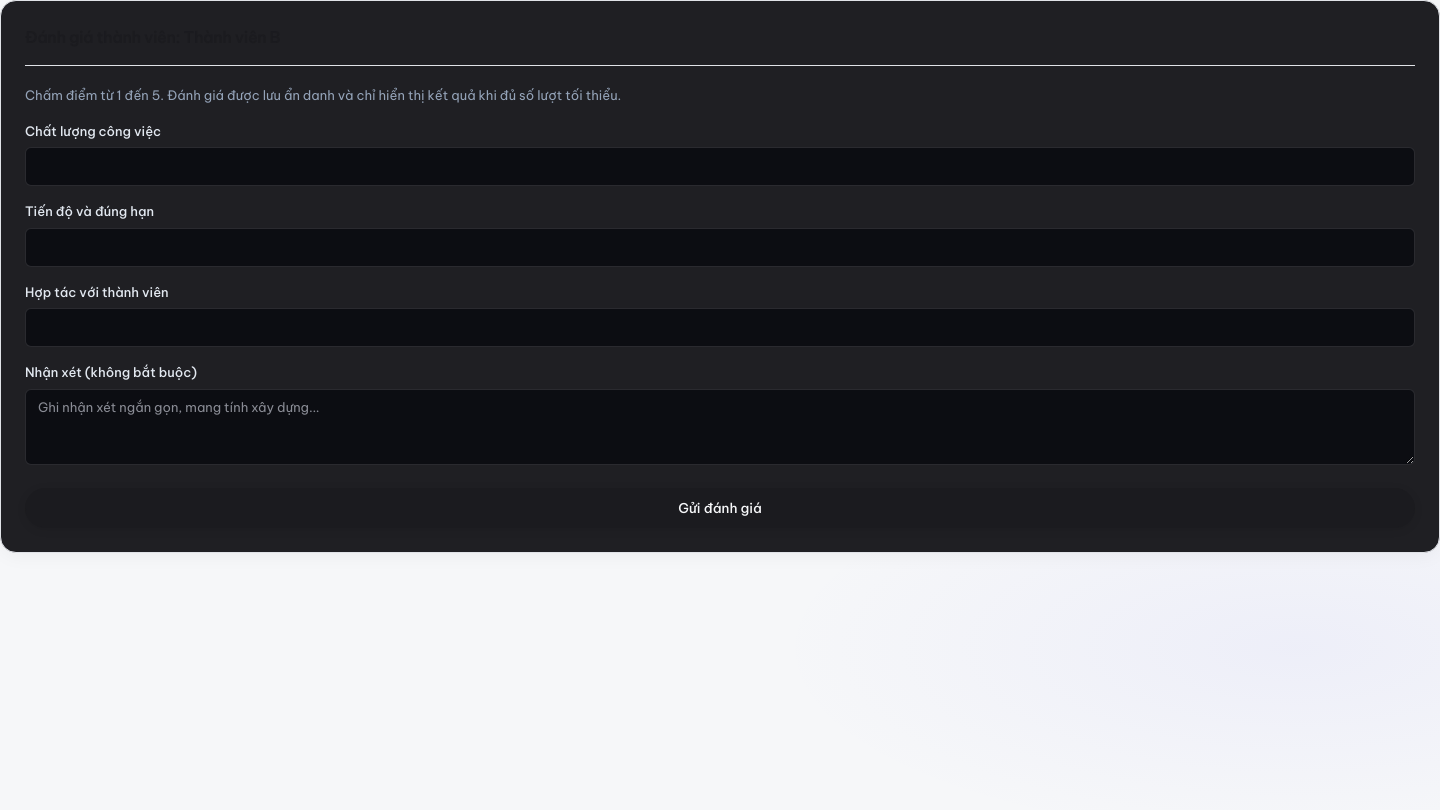
Test: ReviewForm › sends scores matching the backend criteria and reports success
In the number field labelled "Chất lượng công việc": (720, 166) [25,147,1415,186], type "5"
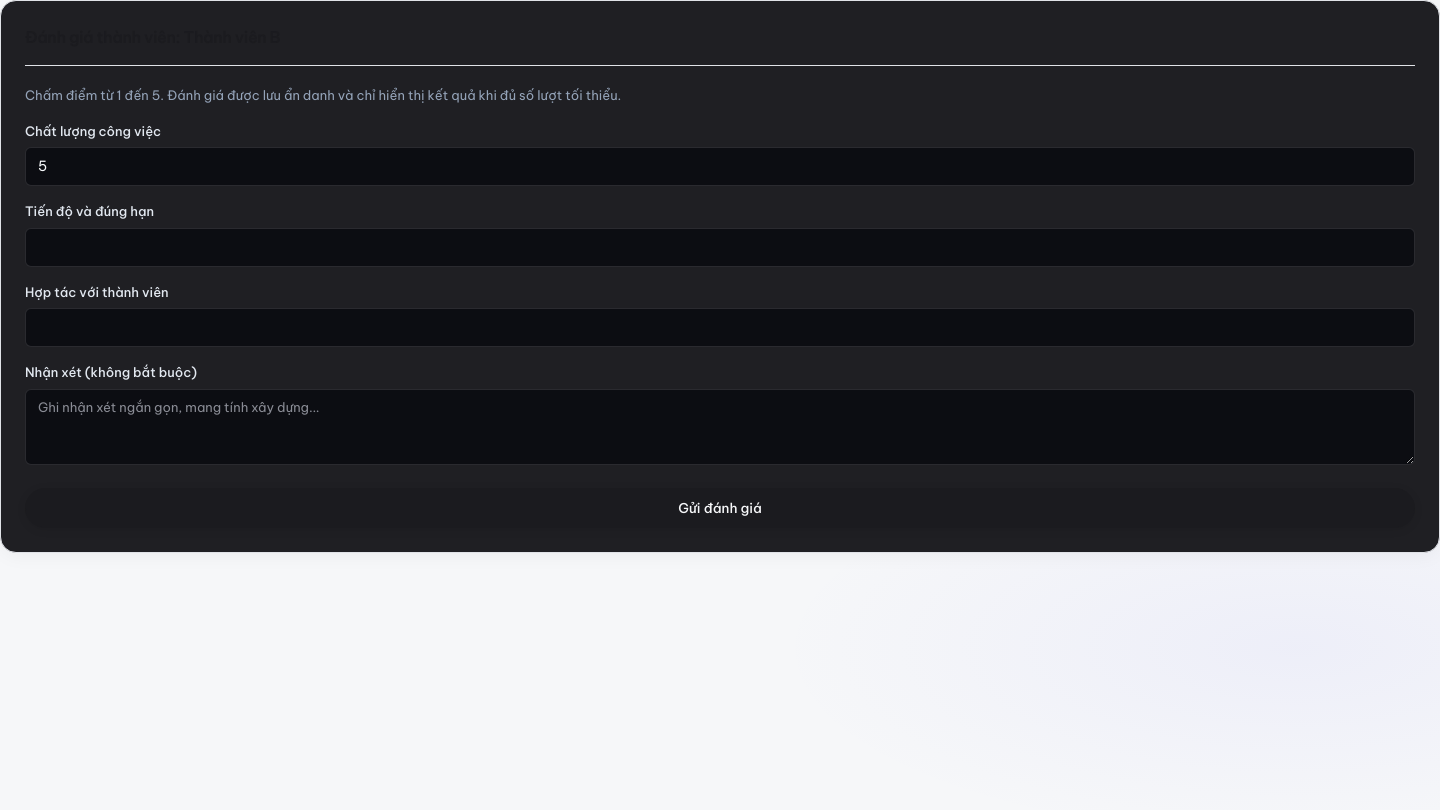
In the number field labelled "Tiến độ và đúng hạn": (720, 247) [25,228,1415,266], type "4"
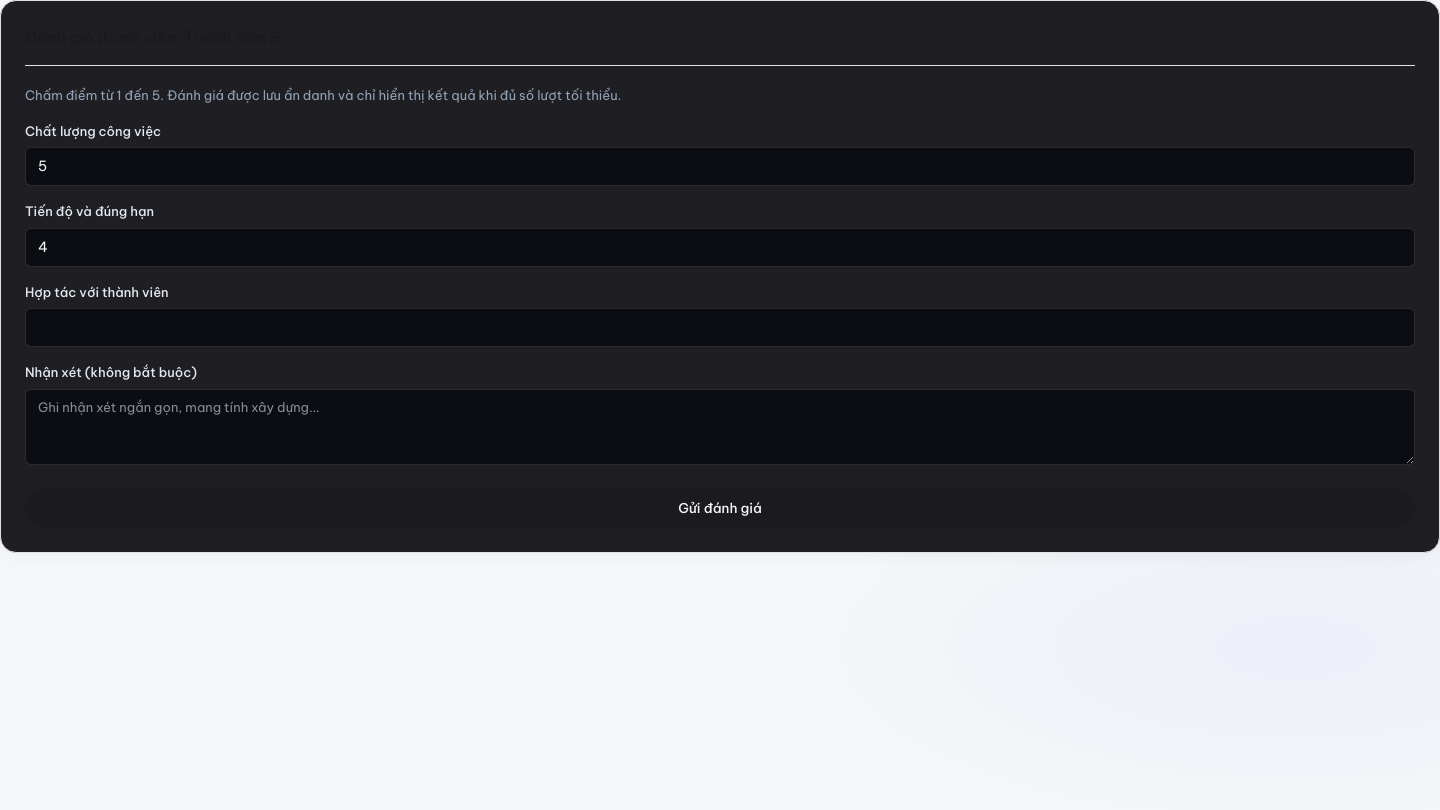
In the number field labelled "Hợp tác với thành viên": (720, 328) [25,308,1415,347], type "3"
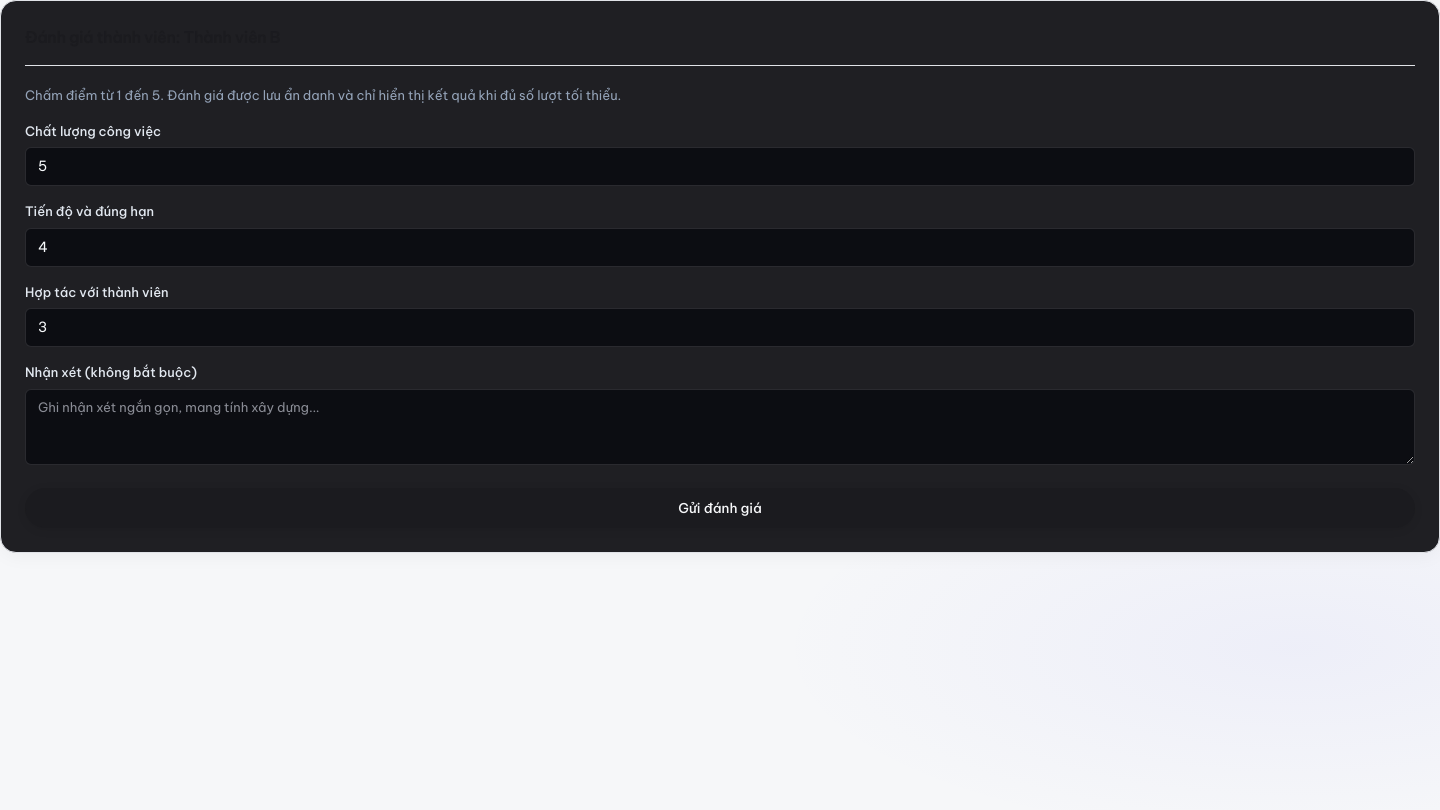
In the text box labelled "Nhận xét (không bắt buộc)": (720, 427) [25,388,1415,465], type "Hợp tác tốt"
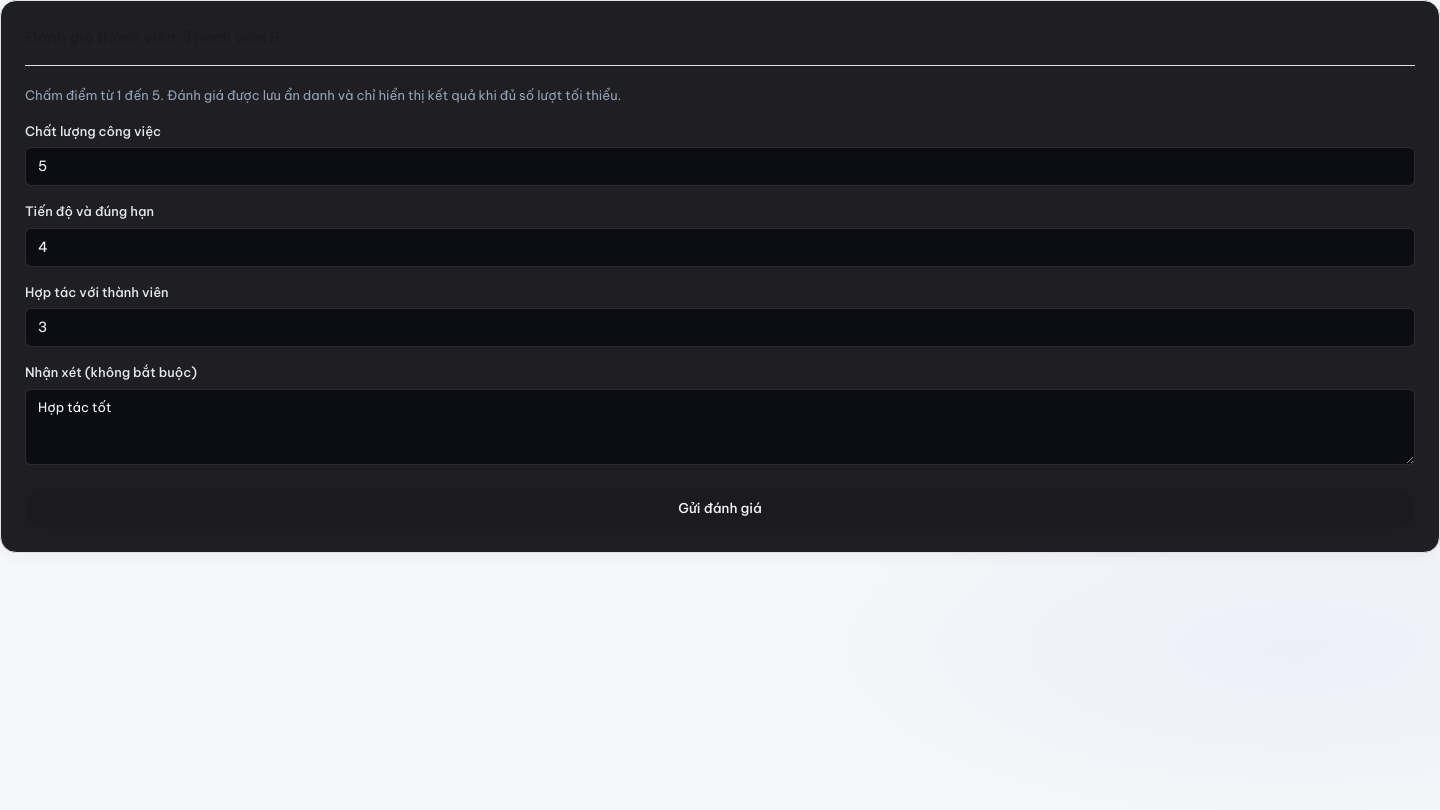
Click the button "Gửi đánh giá": (720, 508) [25,488,1415,528]
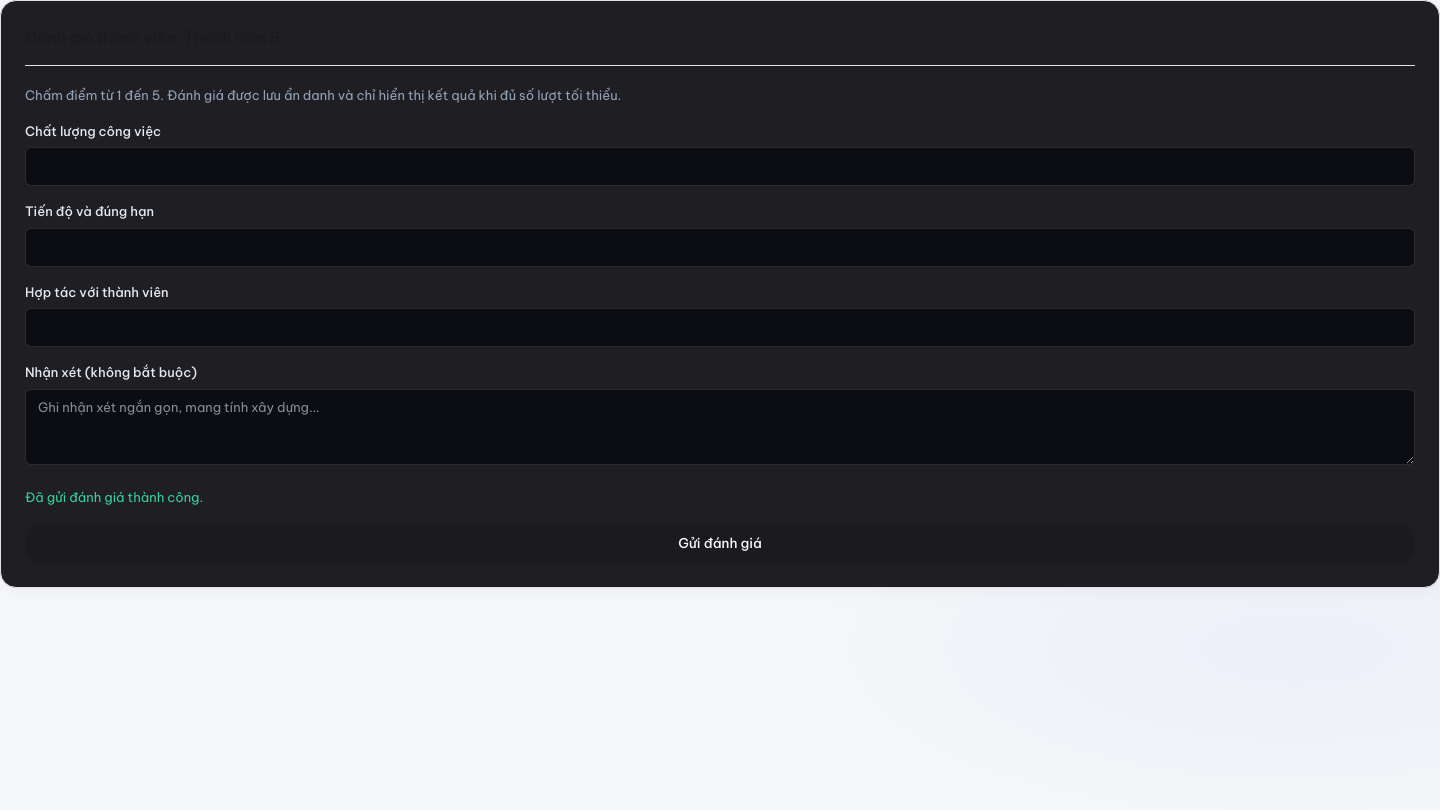
Expected: the message shows "Đã gửi đánh giá thành công", [25,488,203,504]
